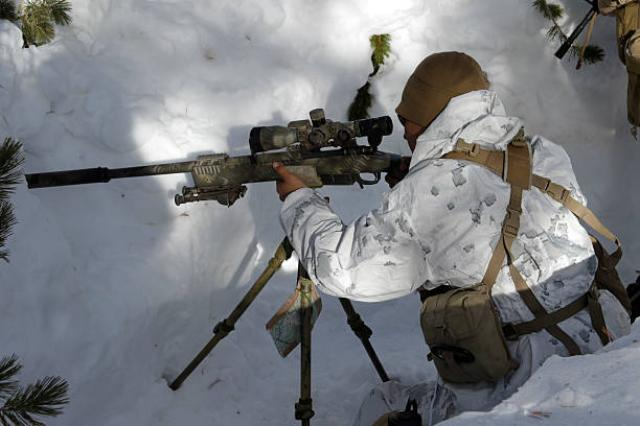other: (362, 57, 630, 345)
